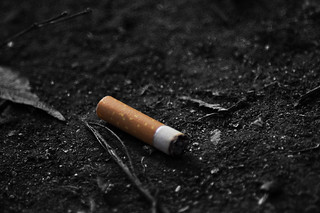cigarette: (93, 94, 190, 159)
